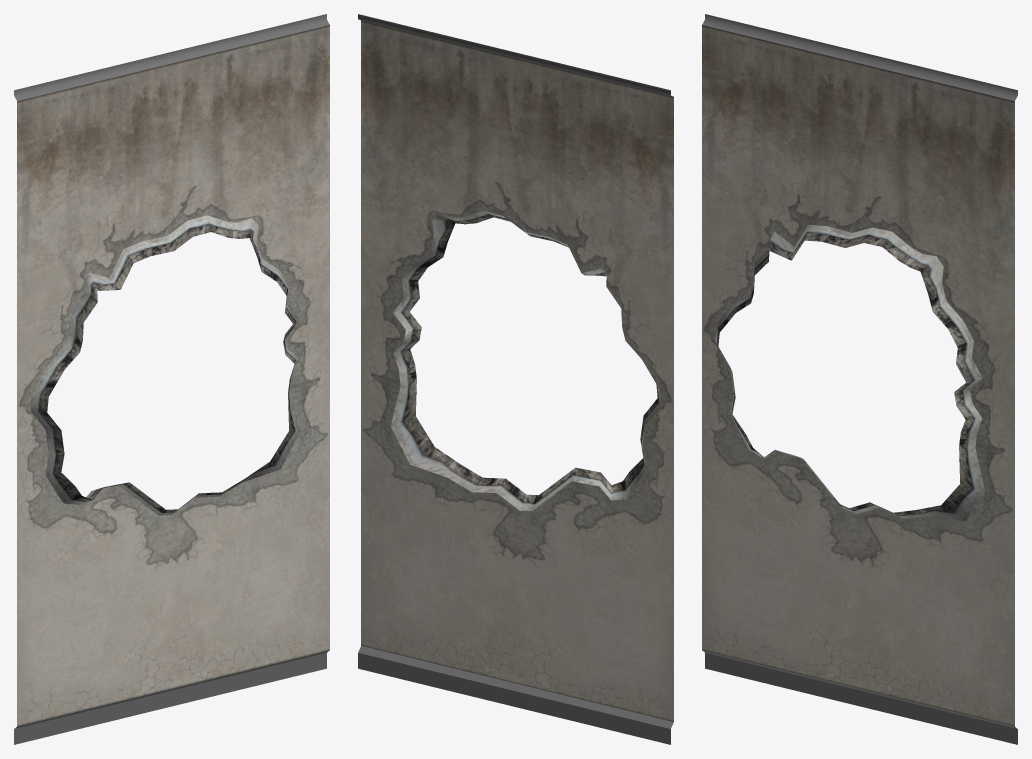
File: livingroom_damaged_hole_small_backside.dae
3 renders of one model, left to right at view 1: azimuth 30°, elevation 25°; view 2: azimuth 150°, elevation 25°; view 3: azimuth 330°, elevation 25°, orthographic.
Parts seen in each view (by area): view 1: polySurface506, polySurface504; view 2: polySurface506, polySurface504; view 3: polySurface506, polySurface504.
Boxes of the visible parts, <box> form: polySurface506: <box>17,25,329,726</box>; polySurface504: <box>14,14,329,744</box>; polySurface506: <box>361,20,673,721</box>; polySurface504: <box>358,14,673,744</box>; polySurface506: <box>702,25,1014,726</box>; polySurface504: <box>702,14,1017,744</box>.
Bounding box in the file's own units: 2 × 4 × 0.1109.
